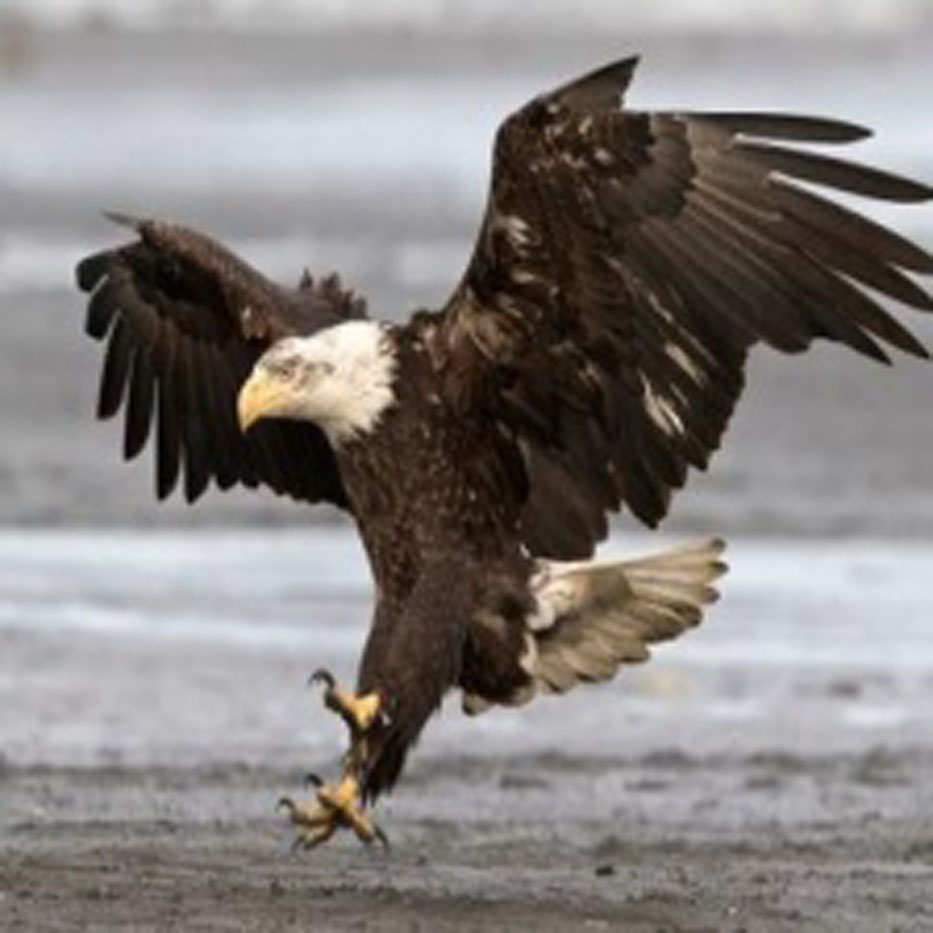Pengoyak Daging: (212, 374, 272, 433)
